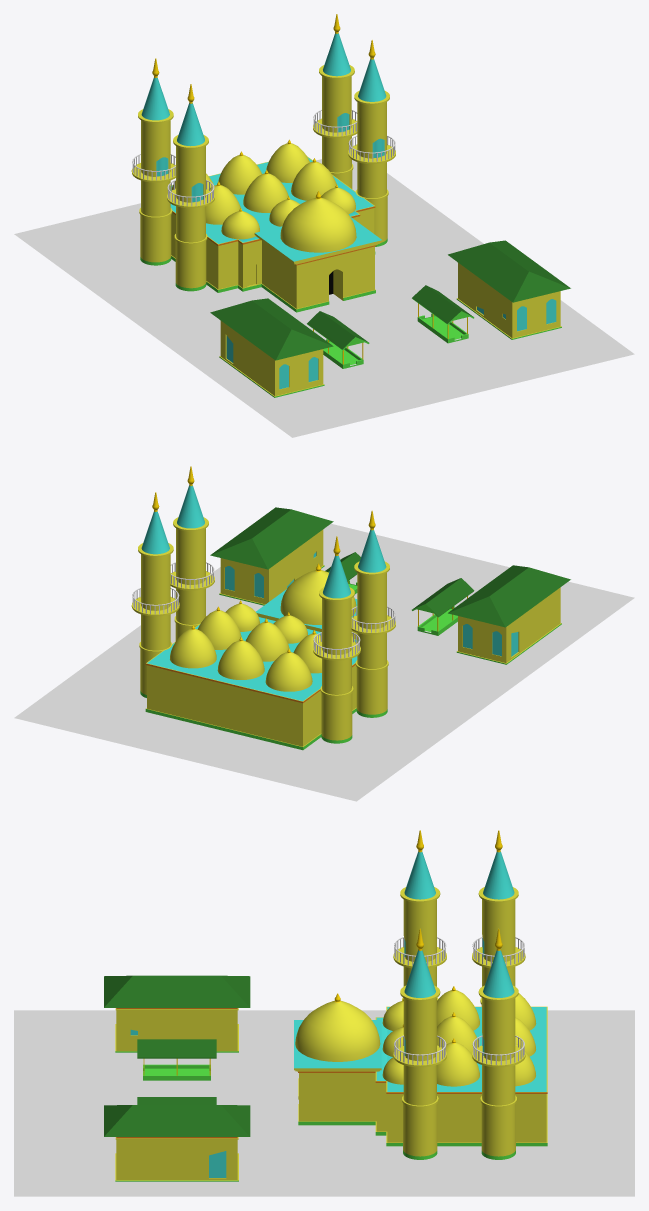
The model's file is TANJUNG PINANG.fbx.
3 views of the same model, one above another, from view 1: azimuth 30°, elevation 25°; view 2: azimuth 150°, elevation 25°; view 3: azimuth 270°, elevation 25° (orthographic). The views are drawn at different scales.
Parts seen in each view (by area): view 1: Plane, Cube.002, Circle.001, Cube, Cube.001; view 2: Plane, Cube.002, Circle.001, Cube, Cube.001; view 3: Plane, Cube.002, Circle.001, Cube, Cube.001.
Part boxes in pixels (x1,y1,x2,y2): Plane: (14, 159, 634, 437); Cube.002: (170, 139, 382, 312); Circle.001: (131, 14, 395, 291); Cube: (210, 240, 570, 397); Cube.001: (307, 285, 474, 368); Plane: (14, 523, 634, 801); Cube.002: (145, 563, 357, 750); Circle.001: (131, 466, 395, 743); Cube: (210, 507, 570, 664); Cube.001: (325, 552, 474, 635); Plane: (14, 1010, 634, 1196); Cube.002: (294, 986, 547, 1146); Circle.001: (393, 830, 525, 1159); Cube: (104, 975, 250, 1181); Cube.001: (137, 1039, 216, 1104).
Size of the model in its own units: 3142 by 1760 by 4423.
